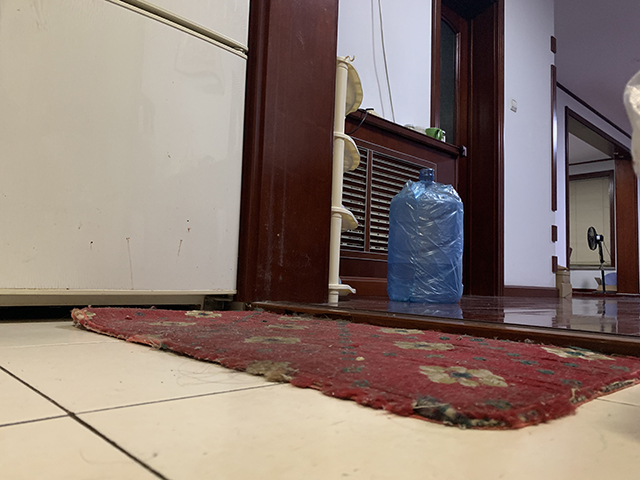cabinet: (339, 108, 470, 299)
carpet: (71, 303, 640, 434)
